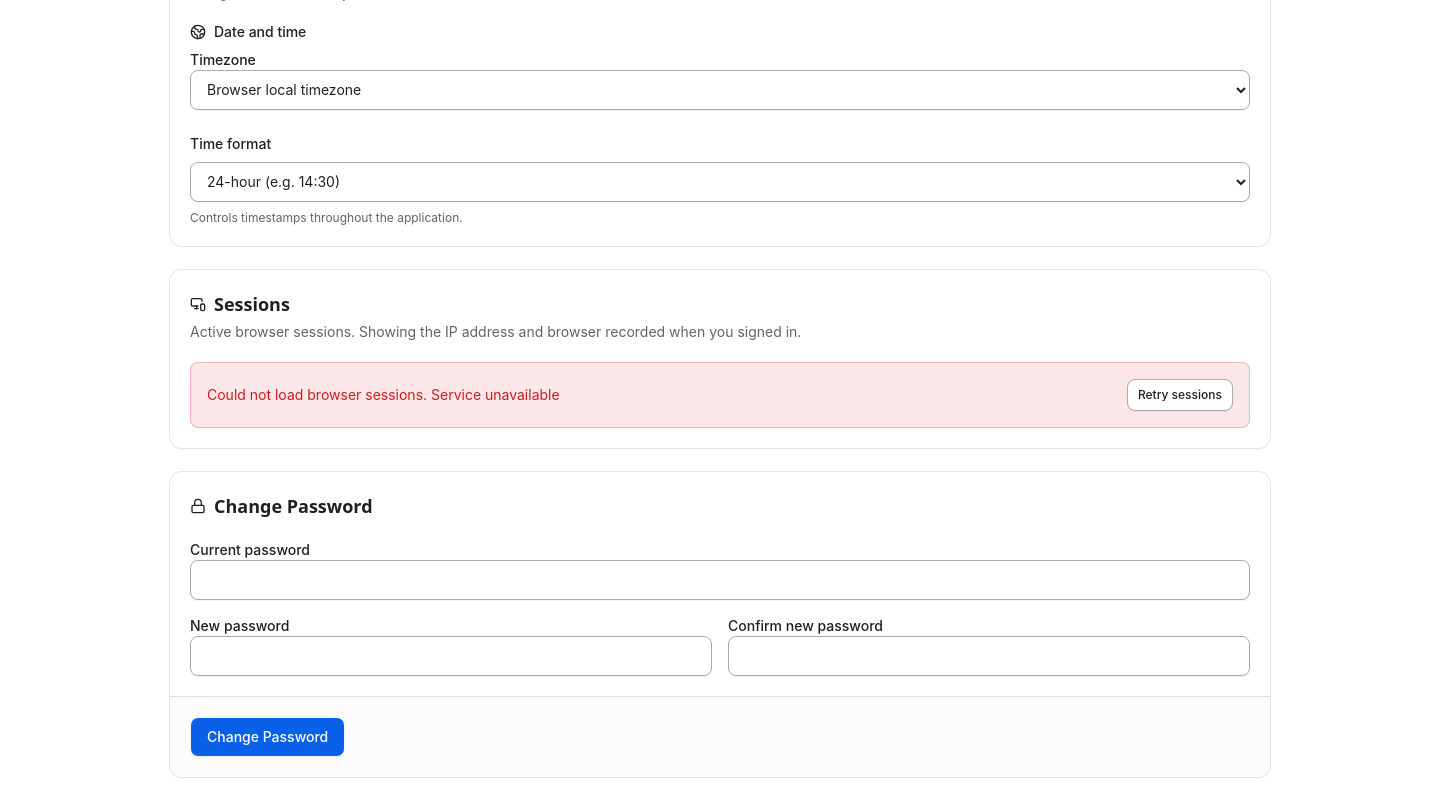
it: keeps session load errors local and retries to an honest empty state
(page scrolled)
Expected: the text "Could not load browser sessions. Service unavailable" is shown, [207,385,560,405]
Click the button "Retry sessions": click(1180, 395) [1127,379,1233,411]
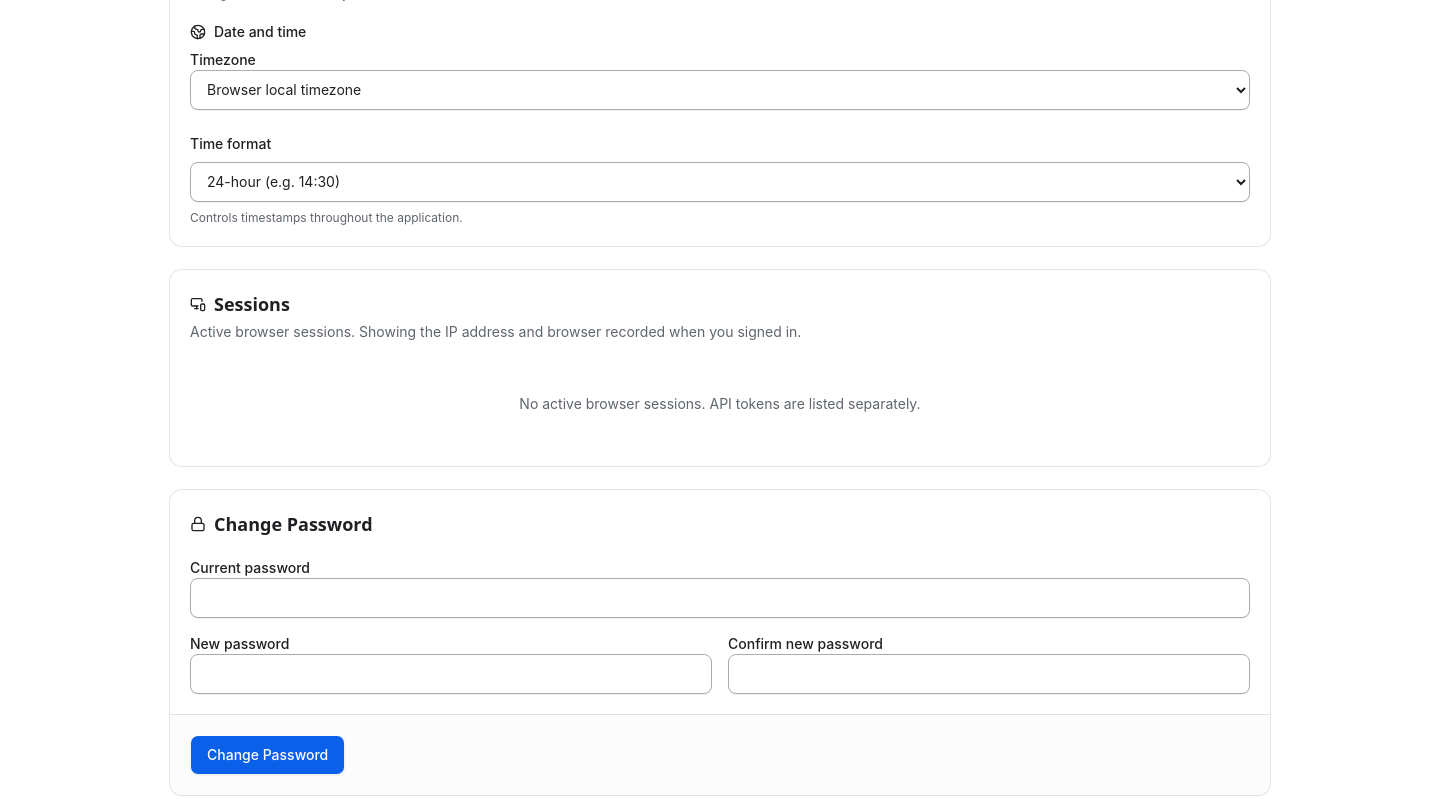
Expected: the text "No active browser sessions. API tokens are listed separately." is shown, [519,395,921,412]
